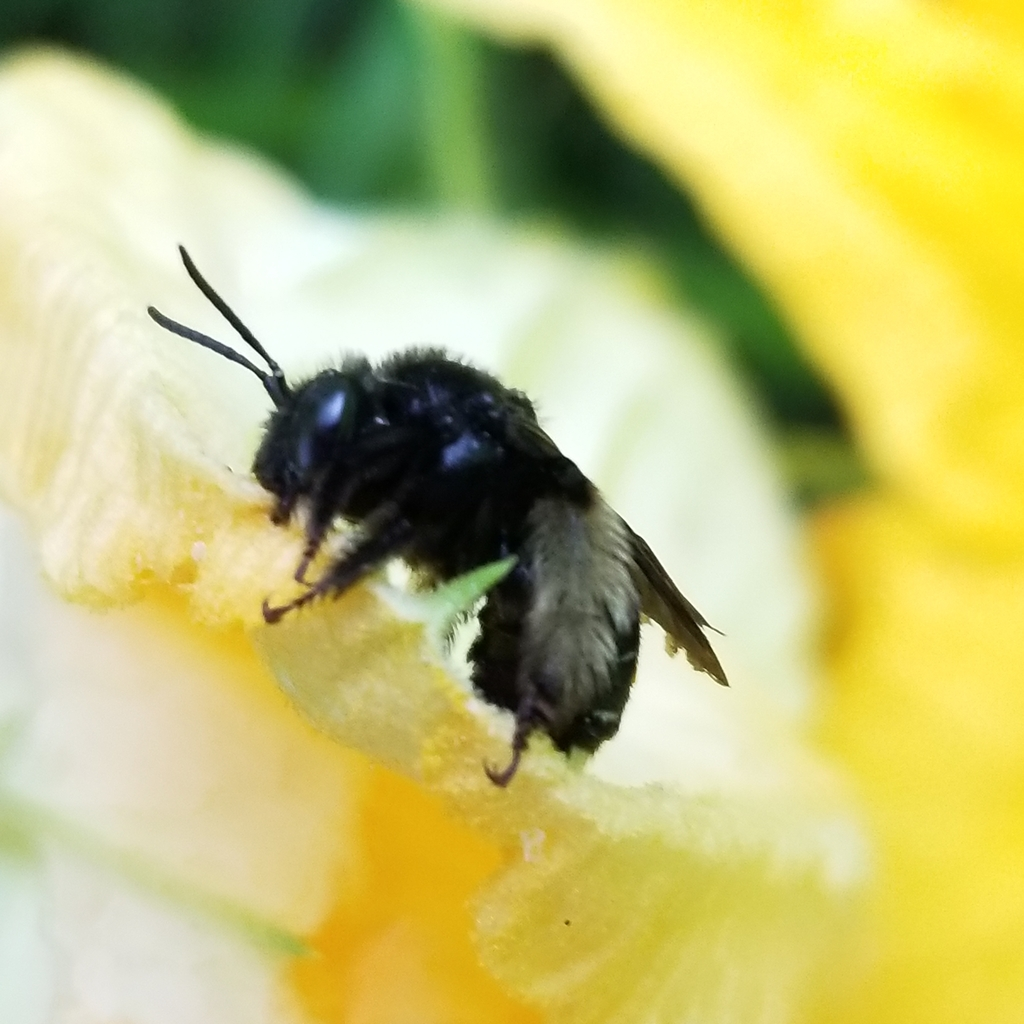not_bumblebee: (144, 241, 730, 790)
